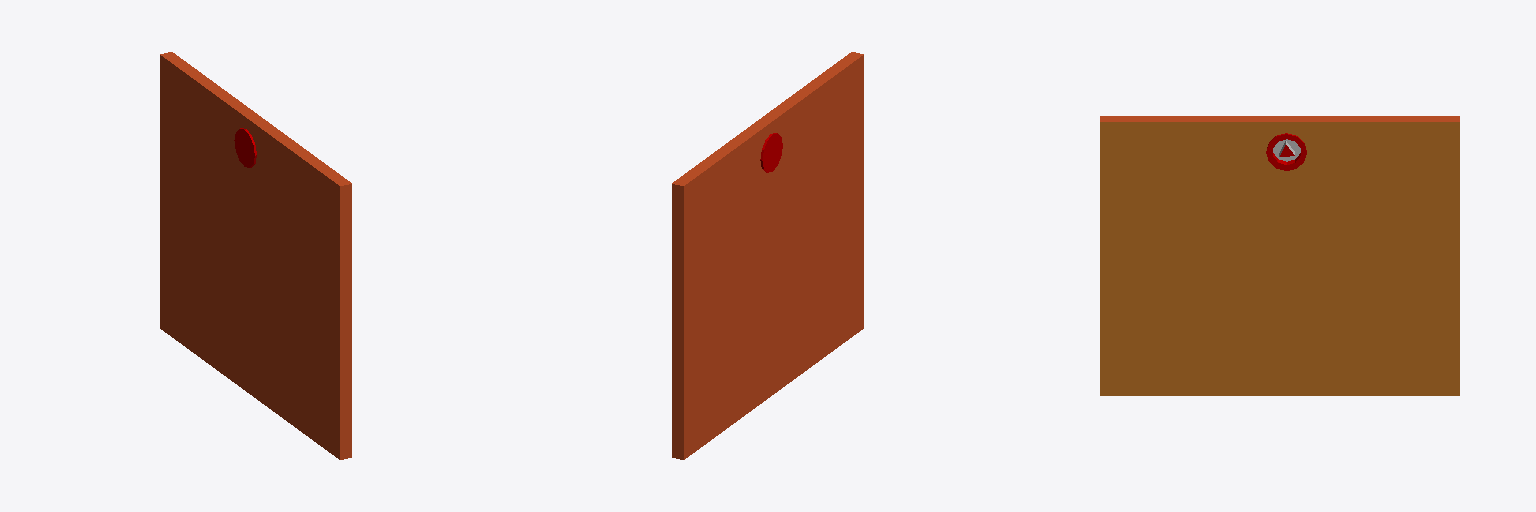
File: stove_door.obj
3 views of the same model, side by side, from view 1: azimuth 30°, elevation 25°; view 2: azimuth 150°, elevation 25°; view 3: azimuth 270°, elevation 25° (orthographic).
Parts seen in each view (by area): view 1: Cube; view 2: Cube; view 3: Cube.
Part boxes in pixels (bbox=[...]): Cube: bbox=[160, 52, 351, 459]; Cube: bbox=[672, 52, 863, 459]; Cube: bbox=[1100, 116, 1459, 395].
Size of the model in its own units: 0.022 by 0.359 by 0.4286.